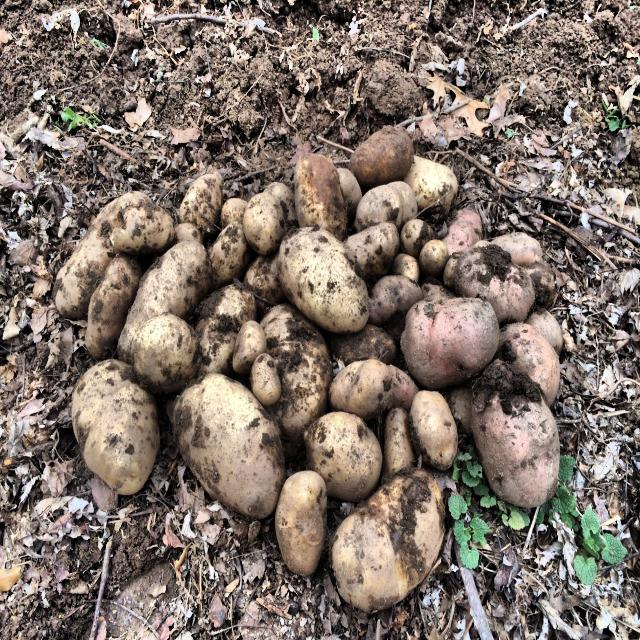potato: (107, 196, 516, 489)
